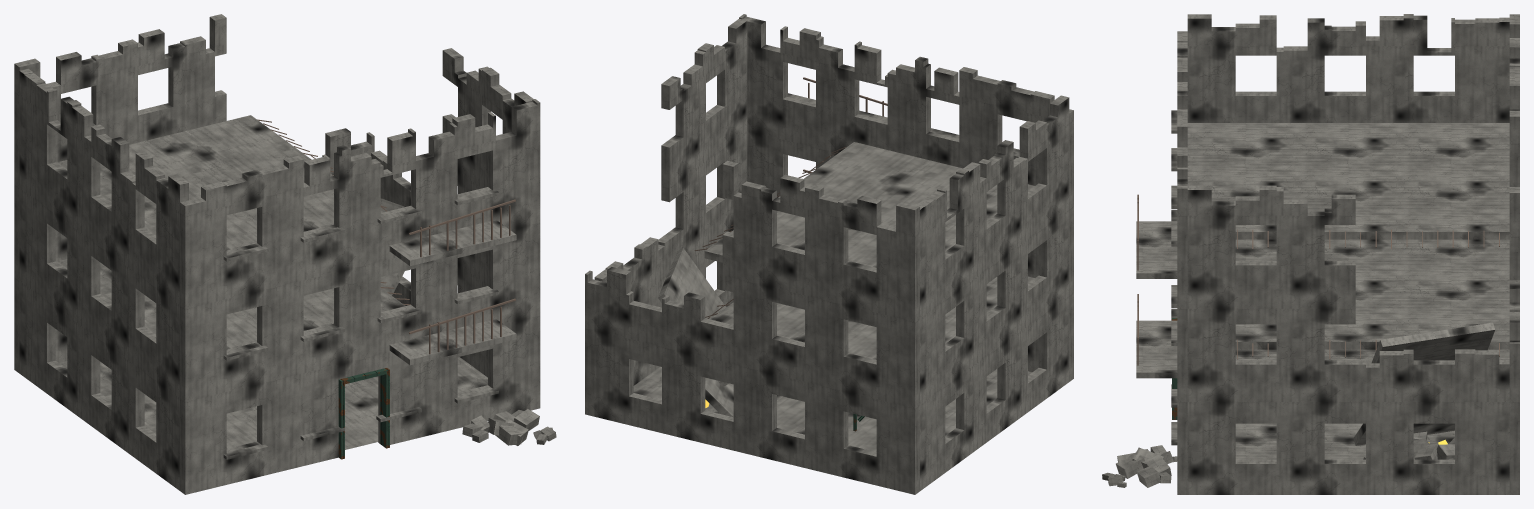
Rendered from apartment.glb.
3 views of the same model, side by side, from view 1: azimuth 30°, elevation 25°; view 2: azimuth 150°, elevation 25°; view 3: azimuth 270°, elevation 25° (orthographic). The views are drawn at different scales.
Visible parts, largest first — view 1: building; view 2: building; view 3: building.
Part boxes in pixels (x1,y1,x2,y2): building: [14, 14, 556, 494]; building: [585, 14, 1073, 494]; building: [1102, 14, 1519, 494].
Bounding box in the file's own units: 12 × 10.09 × 12.2.
4 materials, 2 textured.
